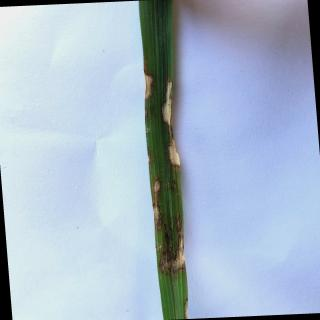Hawar-Daun: (158, 213, 188, 274), (163, 81, 181, 168), (150, 180, 162, 227), (142, 73, 153, 102), (181, 299, 190, 320)
